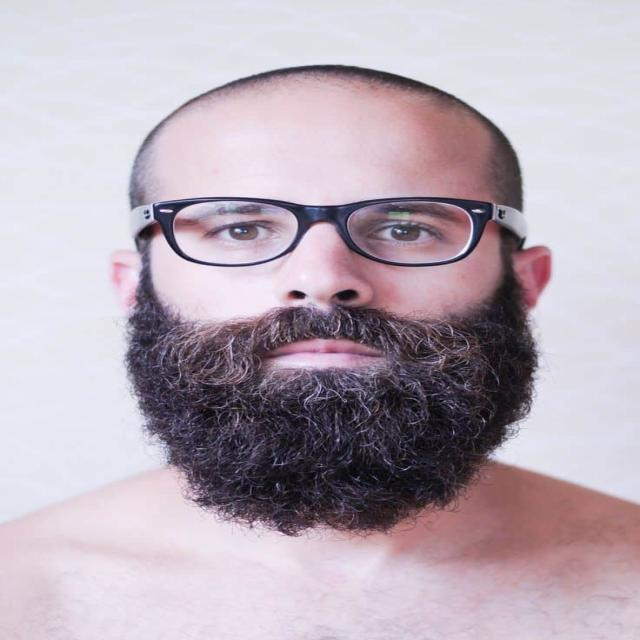bald: (93, 54, 556, 251)
